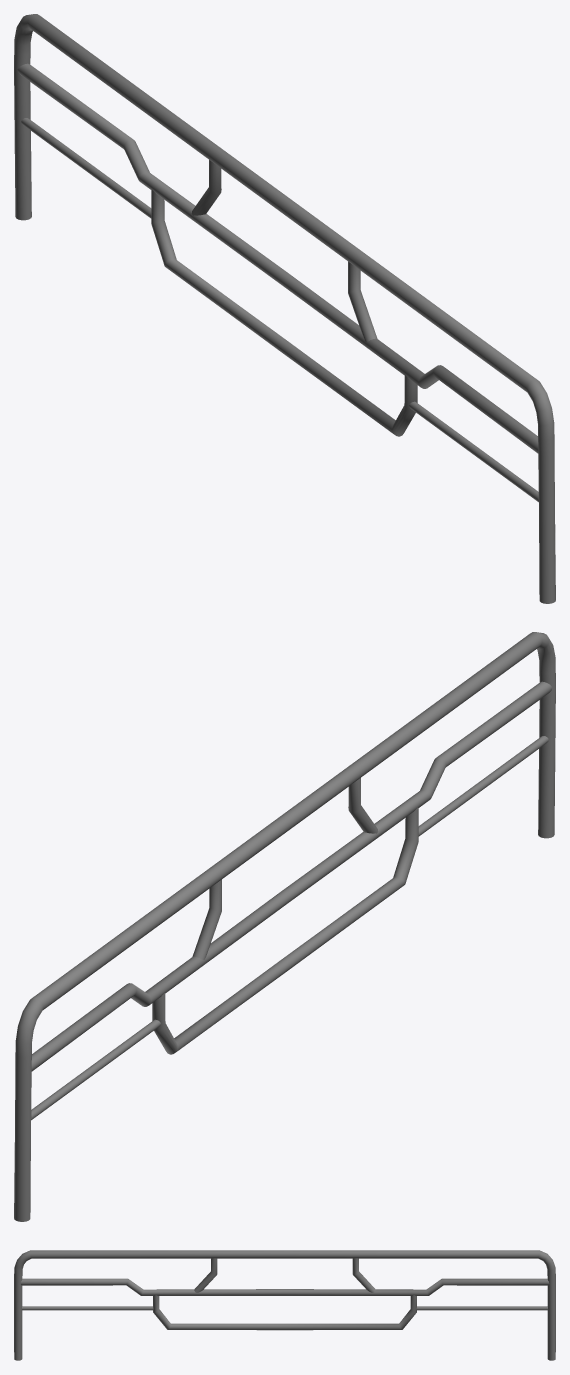
File: q-scifi-mod-prop-rail-4.glb
The picture shows the model from 3 angles, top to bottom: view 1: azimuth 30°, elevation 25°; view 2: azimuth 150°, elevation 25°; view 3: azimuth 270°, elevation 25°; orthographic projection. The views are drawn at different scales.
Parts seen in each view (by area): view 1: Prop_Rail_4; view 2: Prop_Rail_4; view 3: Prop_Rail_4.
Boxes of the visible parts, x1,y1,x2,y2 form: Prop_Rail_4: (14,14,555,603); Prop_Rail_4: (14,632,555,1221); Prop_Rail_4: (14,1250,555,1360).
Bounding box in the file's own units: 0.0666 × 0.8624 × 3.93.
Materials: 1 (1 with a texture image).
